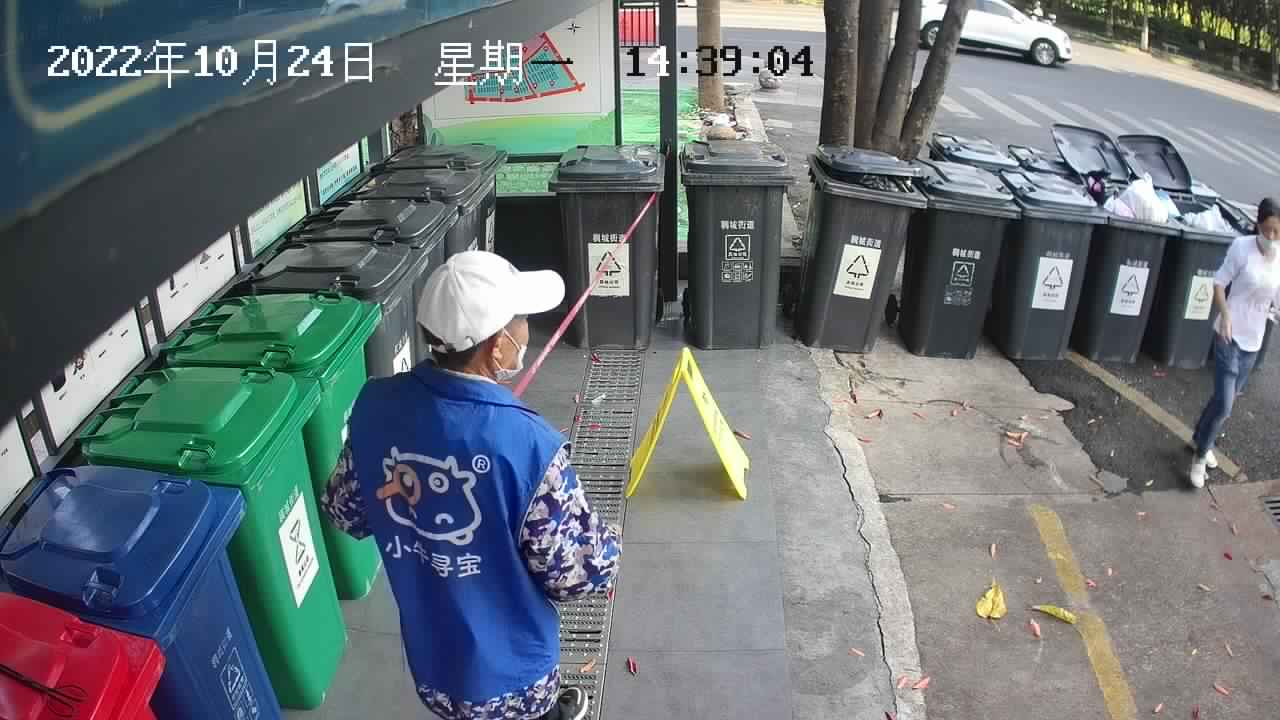worker: (314, 245, 627, 720)
